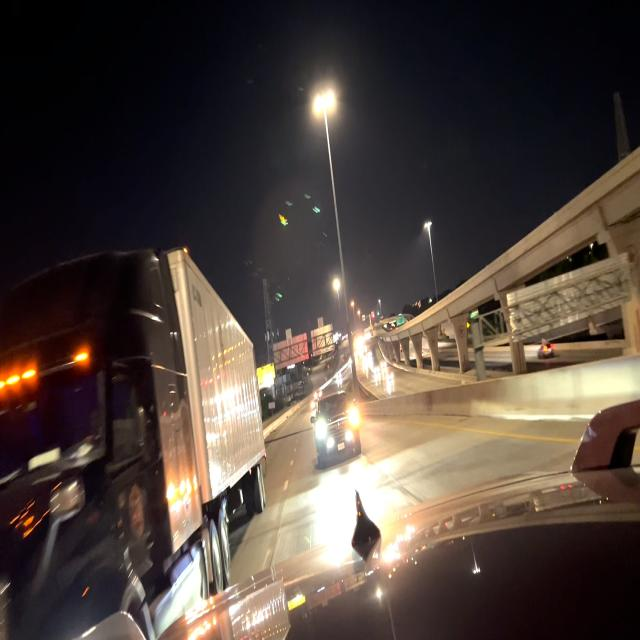back-of-sign: (505, 251, 631, 348), (275, 327, 309, 374), (312, 317, 335, 361)
